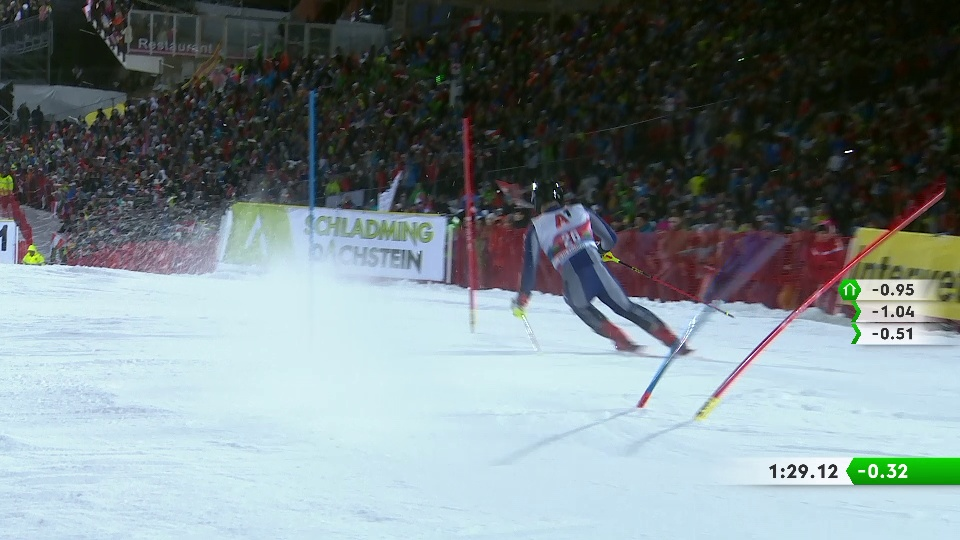a1: (1, 224, 16, 264), (553, 209, 577, 231)
schladming: (246, 210, 436, 276)
